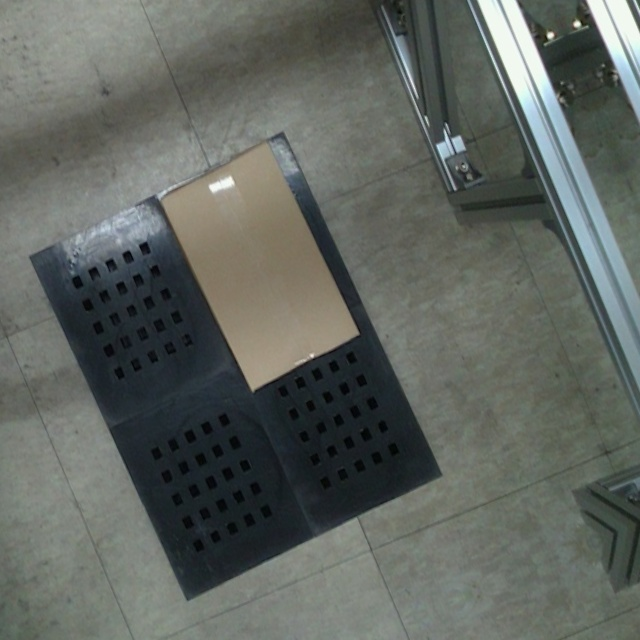box: (148, 132, 372, 402)
pallet: (14, 121, 458, 617)
